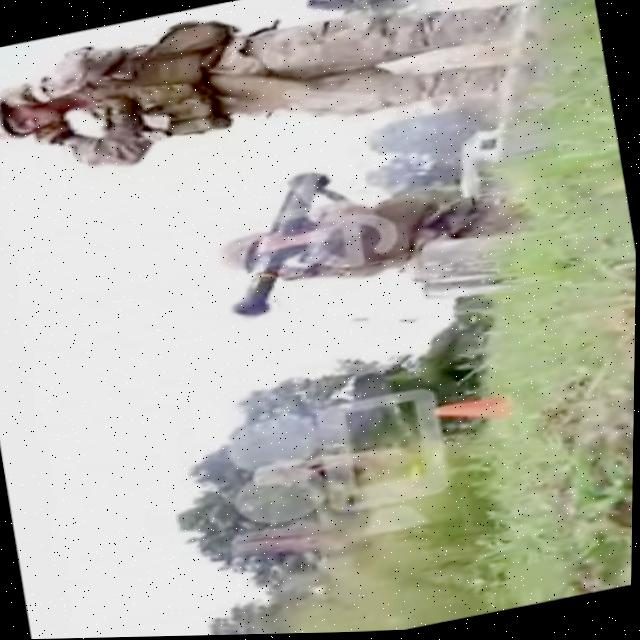rocket: (212, 169, 354, 317)
